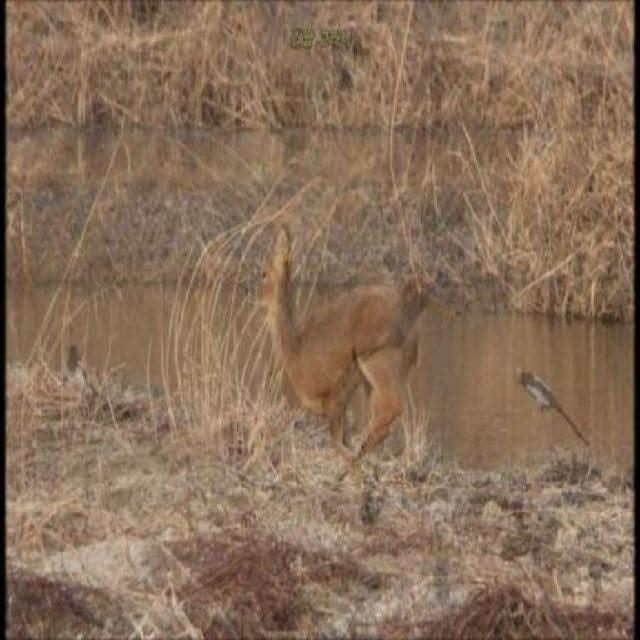deer: (260, 218, 428, 497)
